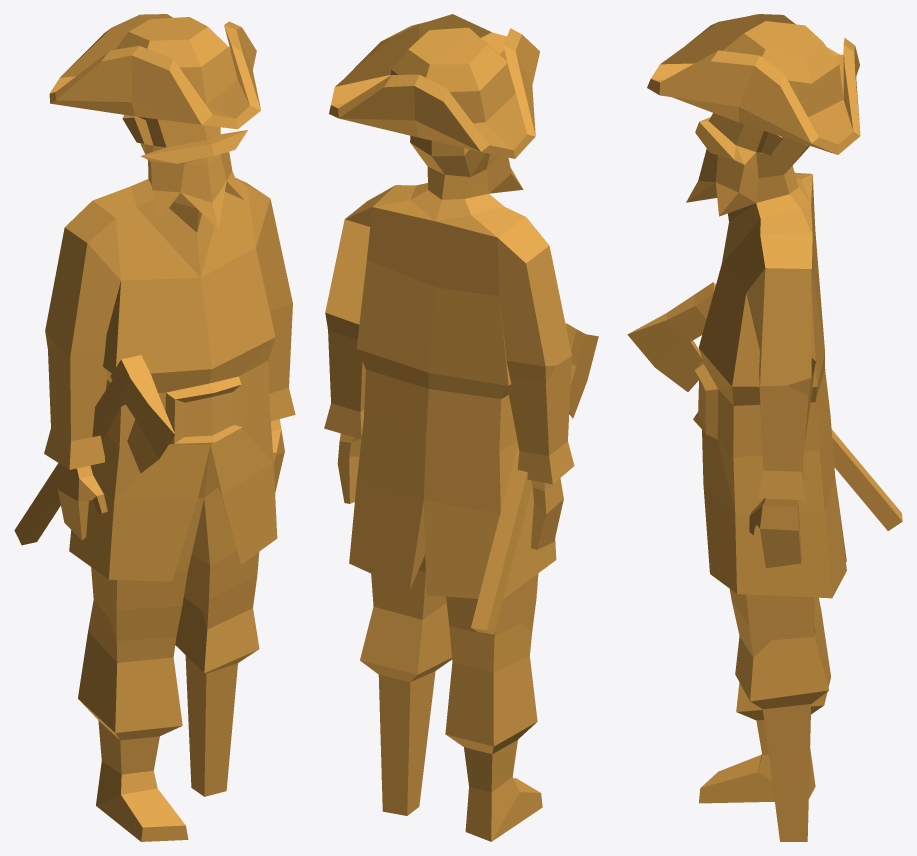
File: man-pirate-hat.fbx
3 renders of one model, left to right at view 1: azimuth 30°, elevation 25°; view 2: azimuth 150°, elevation 25°; view 3: azimuth 270°, elevation 25°, orthographic.
Visible parts, largest first — view 1: man-pirate-hat; view 2: man-pirate-hat; view 3: man-pirate-hat.
Boxes of the visible parts, left/top/right/bottom form: man-pirate-hat: left=14, top=14, right=295, bottom=841; man-pirate-hat: left=324, top=14, right=598, bottom=841; man-pirate-hat: left=627, top=14, right=902, bottom=841.
Bounding box in the file's own units: 0.5839 × 1.89 × 0.6031.
